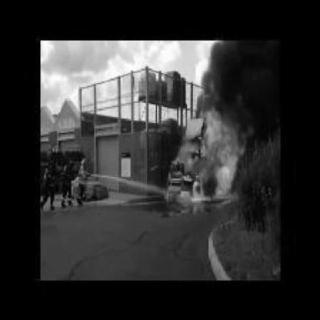Fire: (176, 92, 252, 205)
